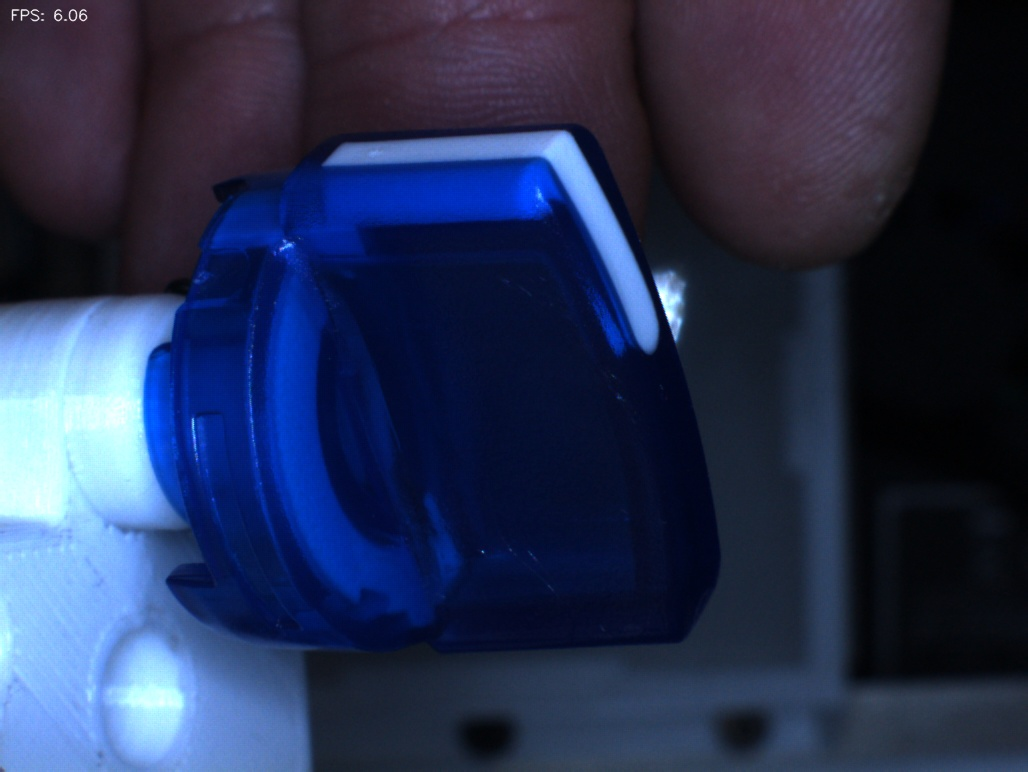Givrage: (451, 492, 563, 625)
